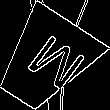M_SW: (10, 28, 81, 95)
